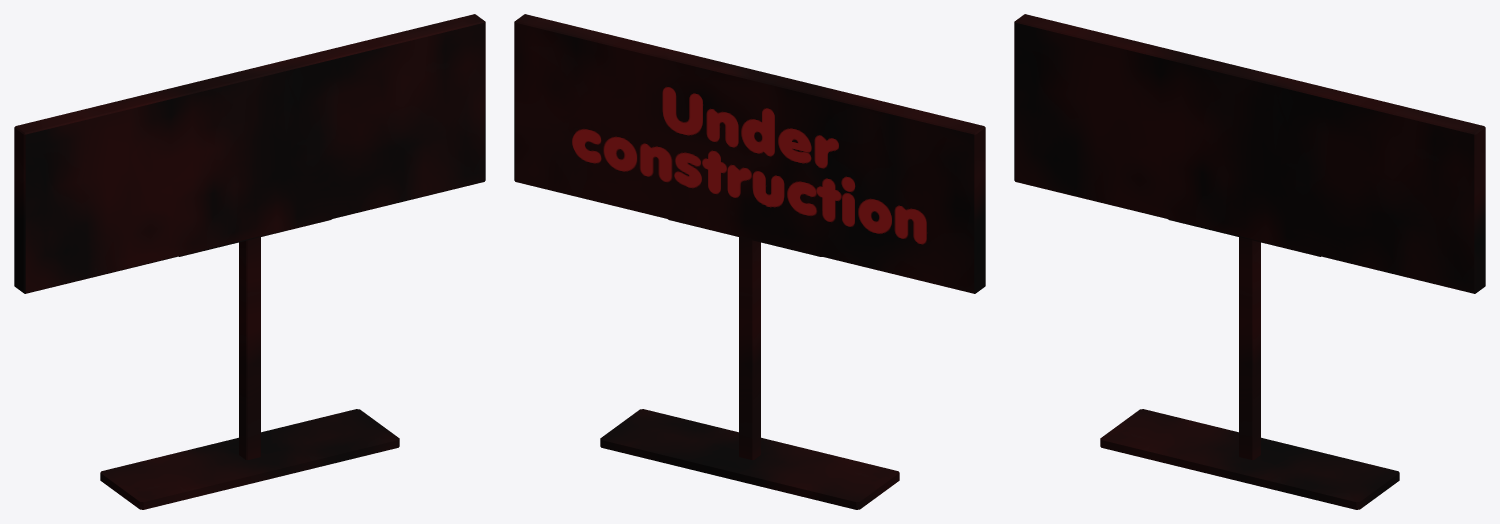
The model's file is under construction.fbx.
The picture shows the model from 3 angles, left to right: view 1: azimuth 30°, elevation 25°; view 2: azimuth 150°, elevation 25°; view 3: azimuth 330°, elevation 25°; orthographic projection.
Parts seen in each view (by area): view 1: Cube; view 2: Cube; view 3: Cube.
Part boxes in pixels (x1=…): Cube: x1=14, y1=14, x2=485, y2=509; Cube: x1=514, y1=14, x2=985, y2=509; Cube: x1=1014, y1=14, x2=1485, y2=509.
Size of the model in its own units: 15 by 2.38 by 12.1.
Materials: 1 (1 with a texture image).
